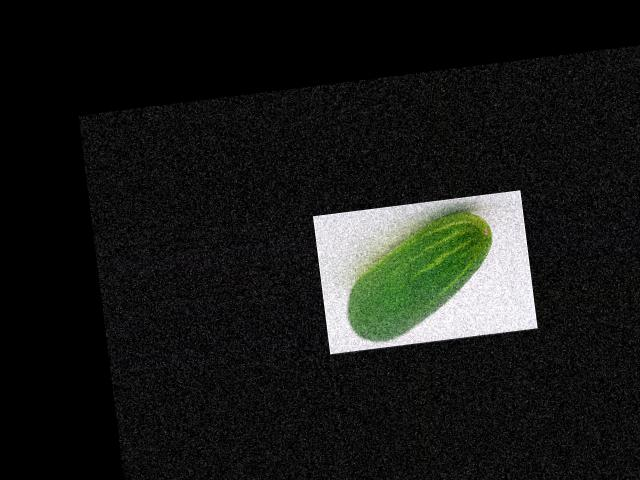cucumber: (336, 208, 502, 345)
